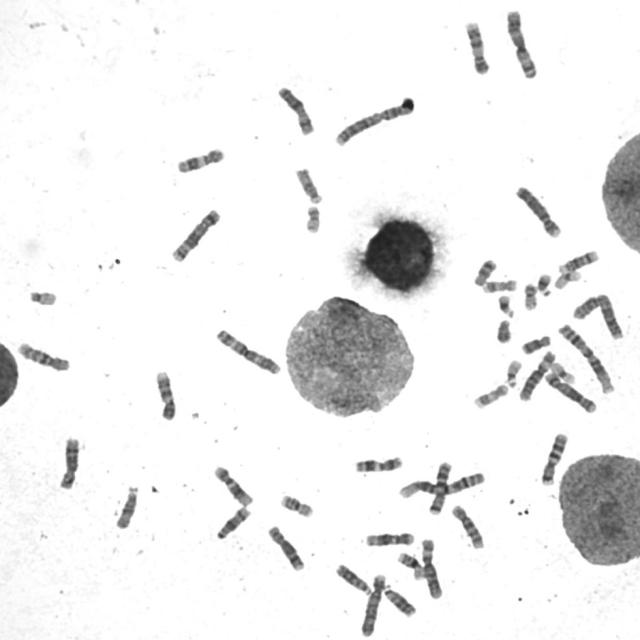A1: (555, 321, 616, 394), (396, 468, 487, 501)
A2: (331, 92, 416, 148), (570, 291, 626, 341)
A3: (212, 325, 283, 376), (503, 6, 539, 80)
B4: (512, 182, 562, 240), (357, 570, 387, 638)
B5: (168, 206, 222, 264), (542, 369, 598, 414)
C10: (14, 338, 71, 373), (449, 502, 486, 551)
C11: (174, 145, 226, 175), (351, 454, 404, 474)
C12: (211, 463, 254, 507), (362, 529, 416, 548)
C6: (516, 348, 558, 402), (418, 536, 444, 600)
C7: (538, 429, 570, 487), (425, 458, 454, 516)
C8: (264, 522, 306, 572), (55, 433, 81, 491)
C9: (461, 17, 491, 76), (152, 368, 177, 422)
D13: (332, 561, 372, 596), (380, 585, 417, 618)
D14: (212, 505, 260, 544), (555, 248, 600, 274)
D15: (112, 481, 140, 530), (292, 165, 324, 205)
E16: (278, 491, 314, 519), (394, 548, 425, 580)
E17: (470, 380, 510, 410), (479, 276, 518, 294)
E18: (470, 256, 498, 288), (518, 332, 552, 355)
F19: (547, 360, 577, 385), (551, 268, 583, 290)
F20: (302, 203, 322, 235), (520, 281, 539, 311)
G21: (534, 270, 554, 298), (495, 292, 516, 318)
G22: (503, 356, 523, 389), (26, 287, 58, 307)
X: (274, 84, 316, 136)
Y: (494, 316, 513, 344)
